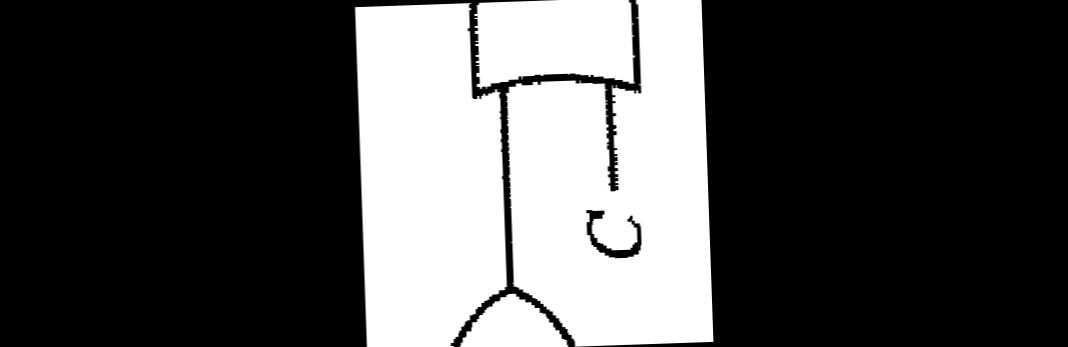or: (451, 0, 655, 131), (406, 254, 616, 347)
